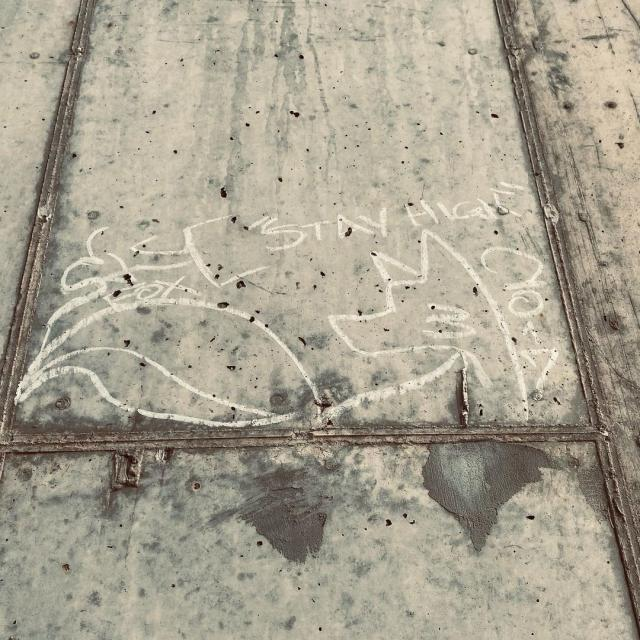nonspitting: (16, 180, 560, 426)
